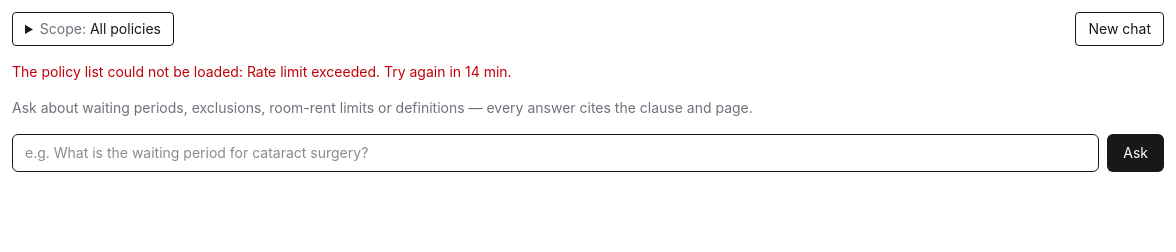
Test: ChatView › shows the wait time when the session itself is rate-limited
Check: the text "The policy list could not be loaded: Rate limit exceeded. Try again in 14 min." is shown, box [12, 63, 512, 80]
Type "q" into the field.
click(556, 153); type("q")  # box [12, 134, 1099, 172]
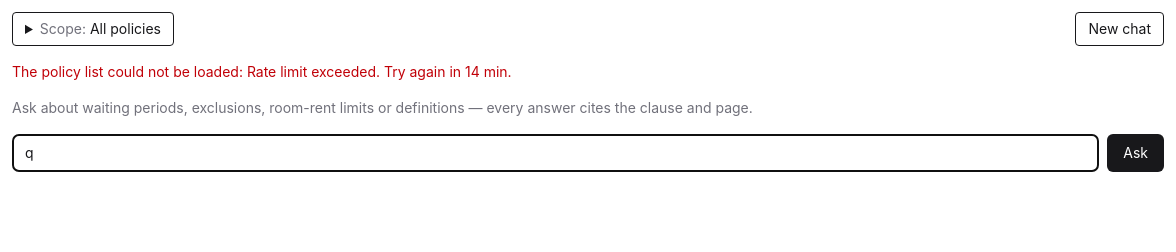
Click the button "Ask".
click(1136, 153)  # box [1107, 134, 1164, 172]
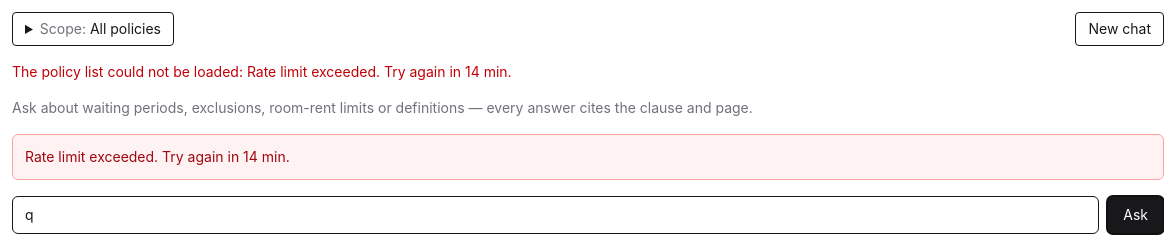
Check: the message "Rate limit exceeded. Try again in 14 min." is shown, box [12, 134, 1164, 180]
